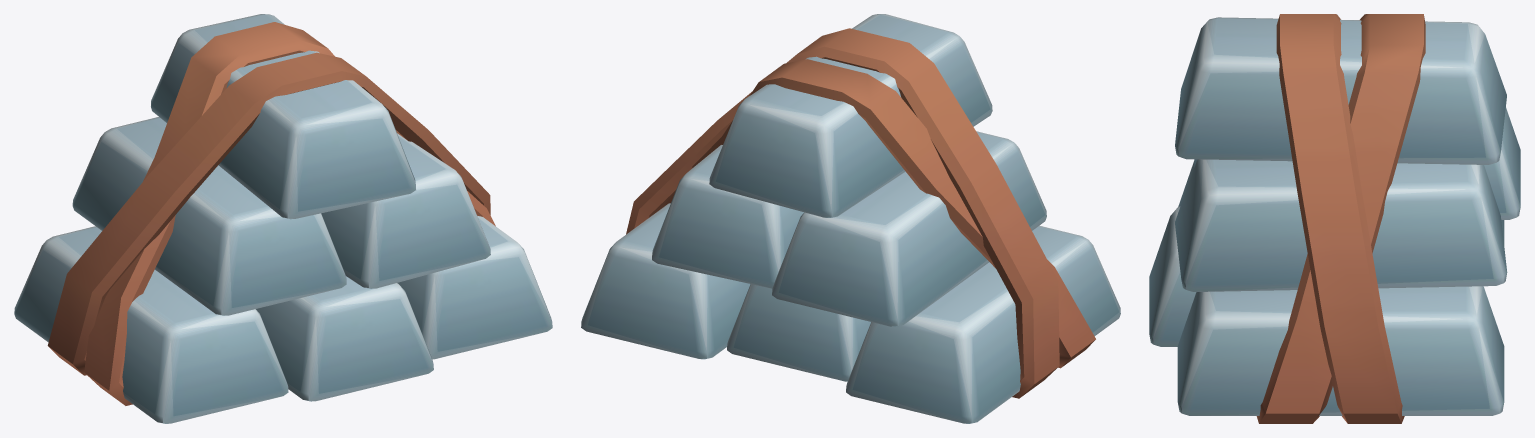
Rendered from silver_bars.glb.
The picture shows the model from 3 angles, left to right: view 1: azimuth 30°, elevation 25°; view 2: azimuth 150°, elevation 25°; view 3: azimuth 270°, elevation 25°; orthographic projection. The views are drawn at different scales.
Parts seen in each view (by area): view 1: Silver_Bars; view 2: Silver_Bars; view 3: Silver_Bars.
Part boxes in pixels (x1,y1,x2,y2): Silver_Bars: [14, 14, 552, 423]; Silver_Bars: [581, 14, 1120, 423]; Silver_Bars: [1149, 14, 1520, 423].
Bounding box in the file's own units: 1.27 × 0.7897 × 0.9106.
Materials: 1 (1 with a texture image).
